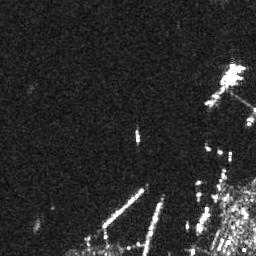ship: (220, 59, 244, 88), (132, 128, 142, 145), (202, 98, 215, 105), (228, 149, 234, 162), (194, 178, 202, 186), (220, 171, 227, 179), (217, 149, 224, 155), (185, 221, 190, 229), (206, 145, 212, 150)
